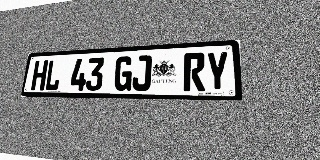3: (85, 57, 105, 91)
4: (70, 58, 88, 91)
G: (113, 56, 133, 91)
H: (31, 60, 48, 90)
J: (132, 55, 152, 91)
L: (44, 59, 62, 91)
R: (183, 52, 205, 91)
Y: (206, 51, 229, 91)
